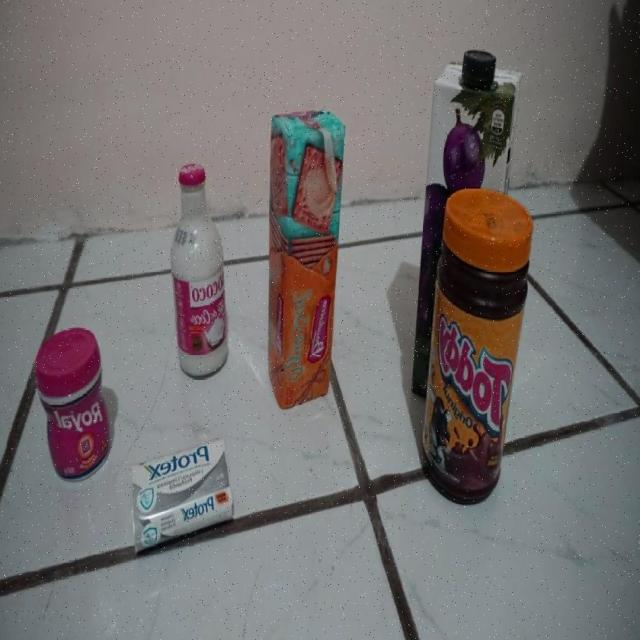ChocolatePowder: (420, 188, 536, 505)
CoconutMilk: (170, 161, 230, 381)
Cracker: (266, 108, 347, 410)
Soap: (129, 436, 236, 556)
Yeast: (34, 327, 111, 484)
